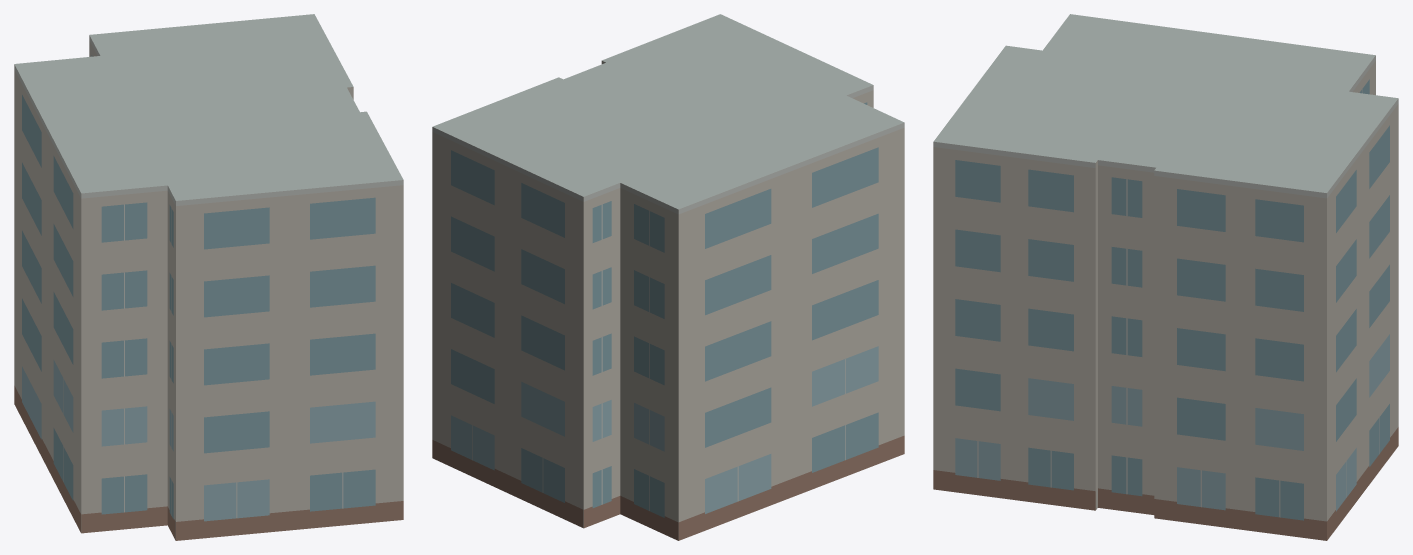
Rendered from survey-upis-32593457.glb.
3 renders of one model, left to right at view 1: azimuth 30°, elevation 25°; view 2: azimuth 150°, elevation 25°; view 3: azimuth 270°, elevation 25°, orthographic. The views are drawn at different scales.
Parts seen in each view (by area): view 1: survey-upis-32593457.tmp; view 2: survey-upis-32593457.tmp; view 3: survey-upis-32593457.tmp.
Part boxes in pixels (box(x1,y1,x2,y2)): survey-upis-32593457.tmp: box(14, 14, 403, 540); survey-upis-32593457.tmp: box(432, 14, 904, 540); survey-upis-32593457.tmp: box(933, 14, 1398, 540).
Size of the model in its own units: 17.8 by 16.1 by 19.53.
